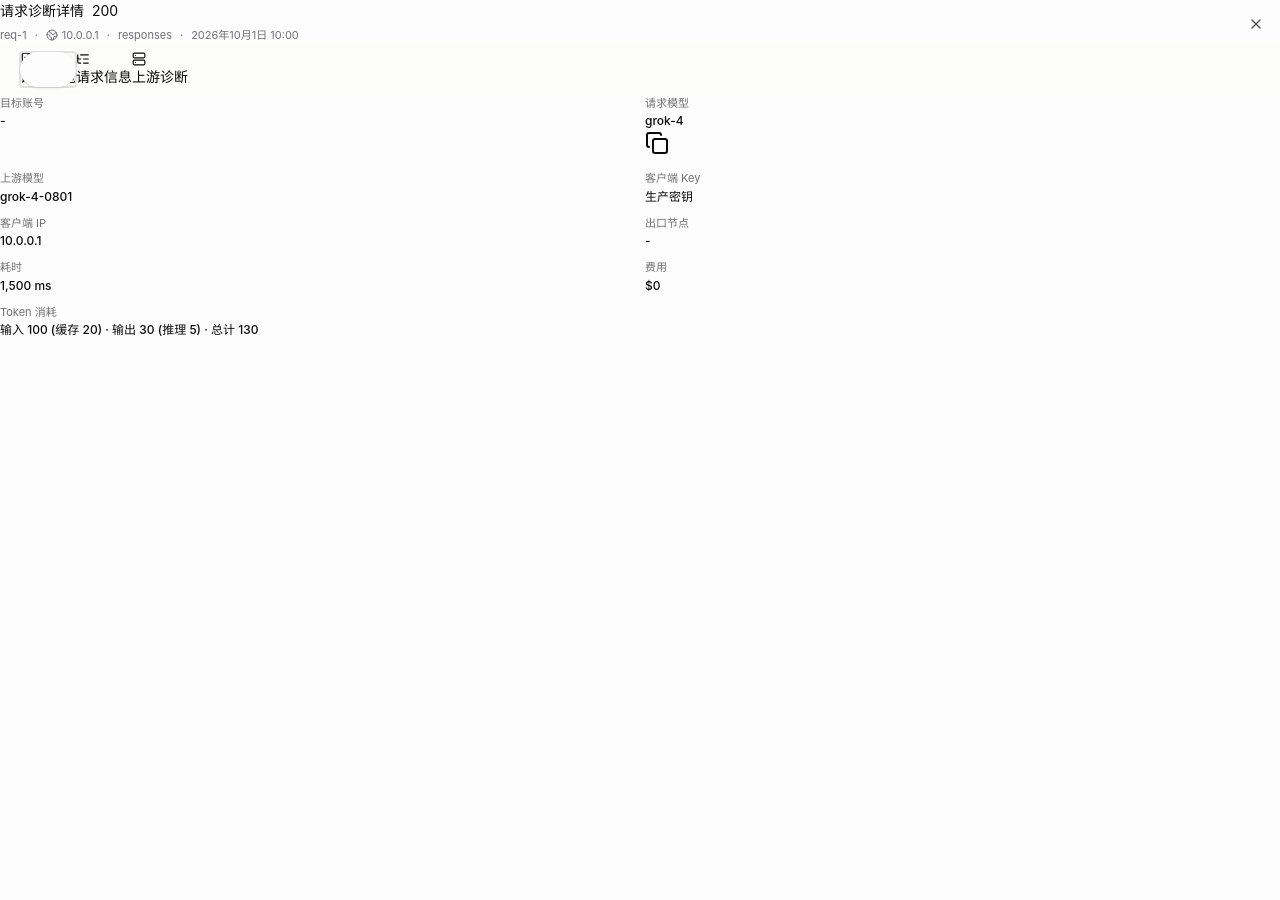
Test case: RequestAuditDetailDialog 请求元数据与上游尝试 › 成功且无尝试时展示成功空态
Click the tab "上游诊断".
click(160, 69)  # box top-left (132, 52), bottom-right (188, 86)
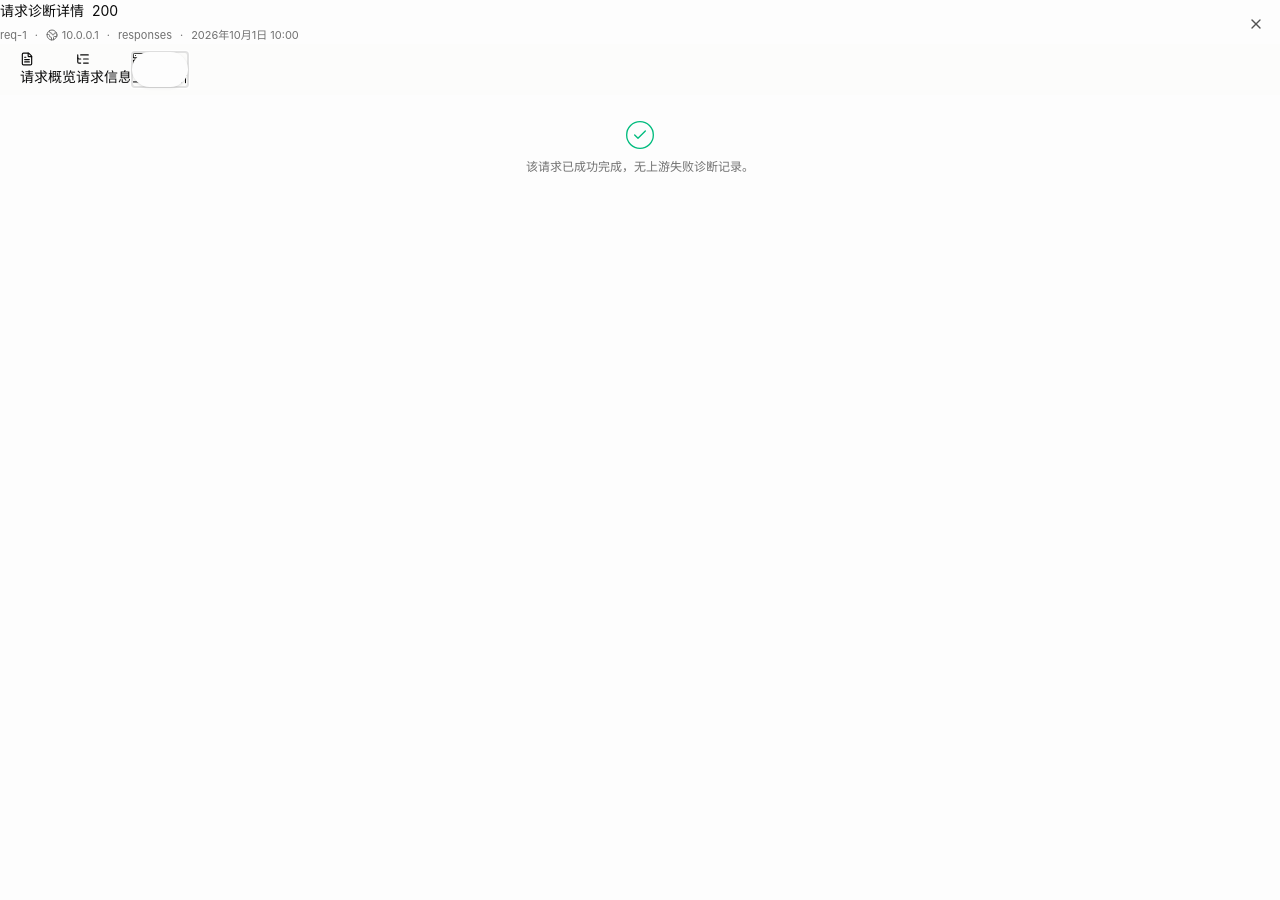
Now the text "该请求已成功完成，无上游失败诊断记录。" is shown, box top-left (526, 158), bottom-right (754, 174)
